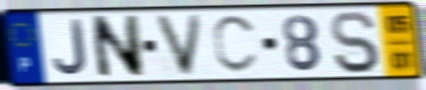8: (281, 13, 323, 74)
C: (211, 13, 260, 76)
J: (51, 18, 90, 78)
N: (88, 13, 146, 81)
S: (329, 8, 382, 75)
V: (152, 12, 206, 78)
